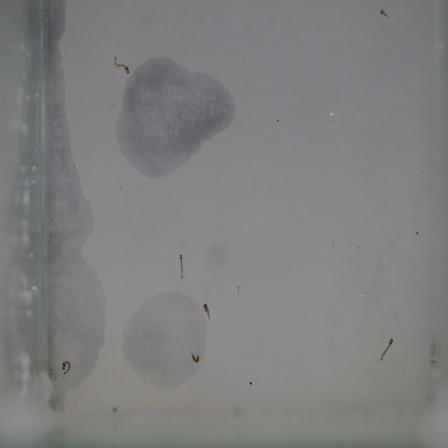Jentik-Nyamuk: (110, 51, 133, 79), (377, 336, 400, 363), (173, 249, 191, 283), (188, 347, 207, 370), (57, 355, 73, 379), (199, 299, 215, 322)
